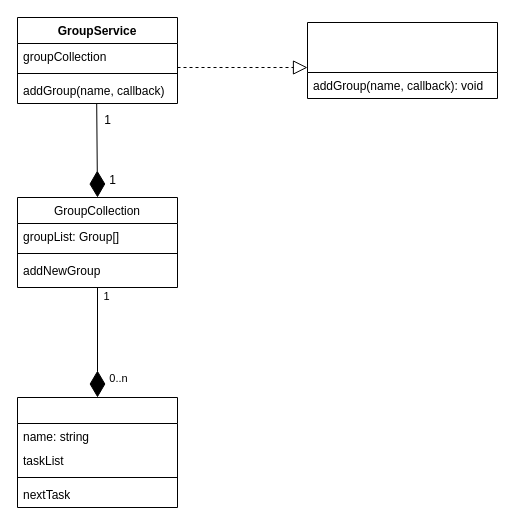
The diagram is 515 pixels wide and 528 high, and some of its shapes have lost their labels. Here are the shapes that lost their labels. From the top down, the box of each, then its label:
(306, 22, 498, 98): << Interface >> GroupServiceListeners
(16, 396, 178, 508): Group
